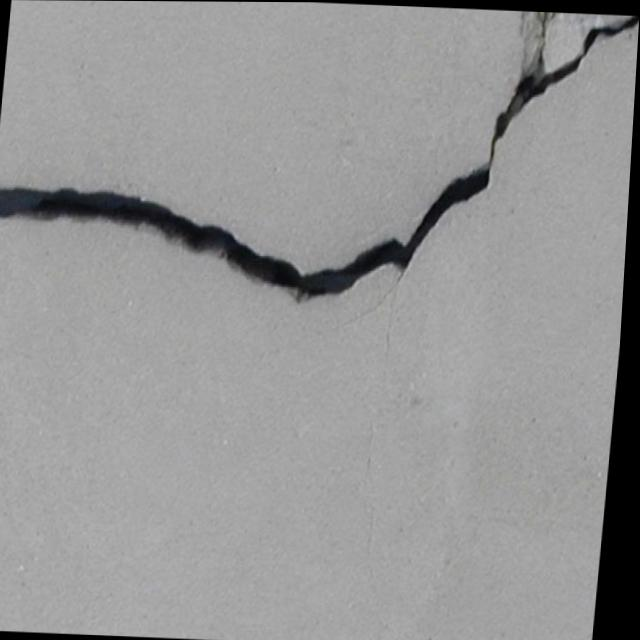Crack: (0, 0, 640, 332)
